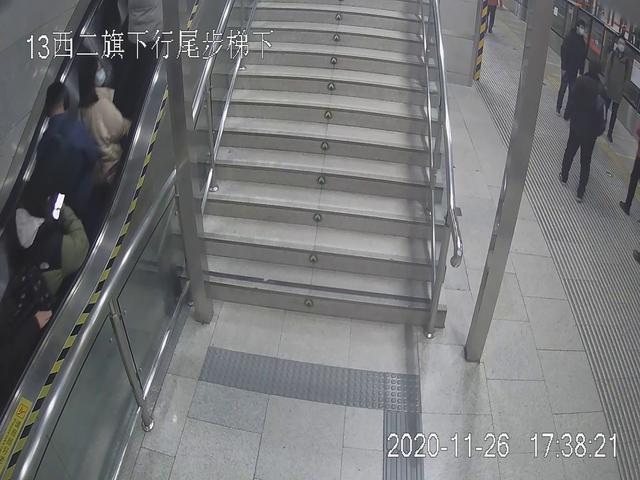person: (10, 171, 89, 355), (67, 49, 140, 197), (25, 84, 87, 247), (560, 63, 609, 201), (554, 14, 593, 106)
